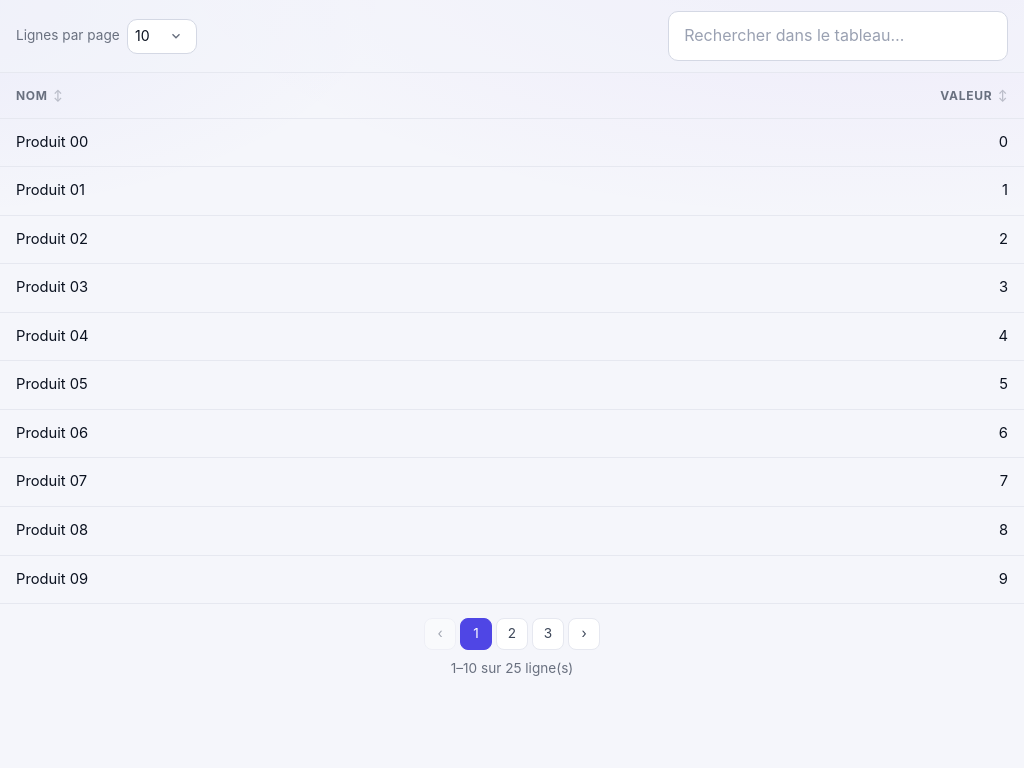
Test case: DataTable › trie par clic sur l'en-tête, dans les deux sens
This screenshot has width=1024, height=768.
Click the button "Valeur ↕" at (974, 96), box [940, 86, 1008, 106]
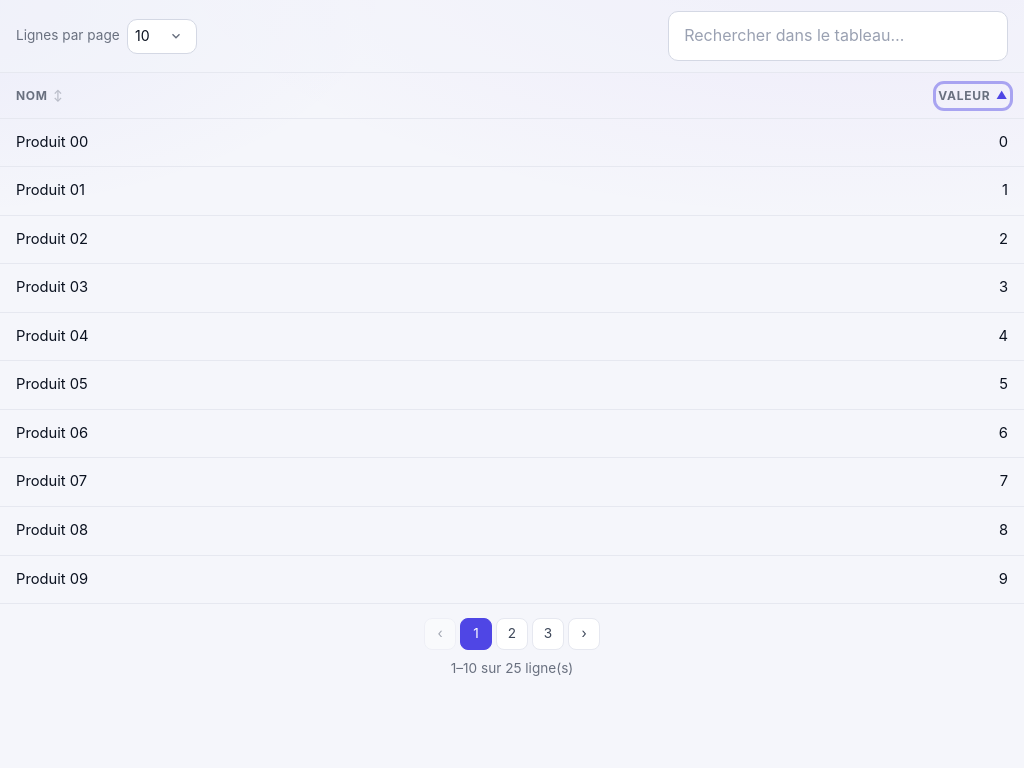
expect the row "Produit 00 0" is shown: met, box [0, 118, 1023, 167]
Click the button "Valeur ▲" at (973, 96), box [938, 86, 1008, 106]
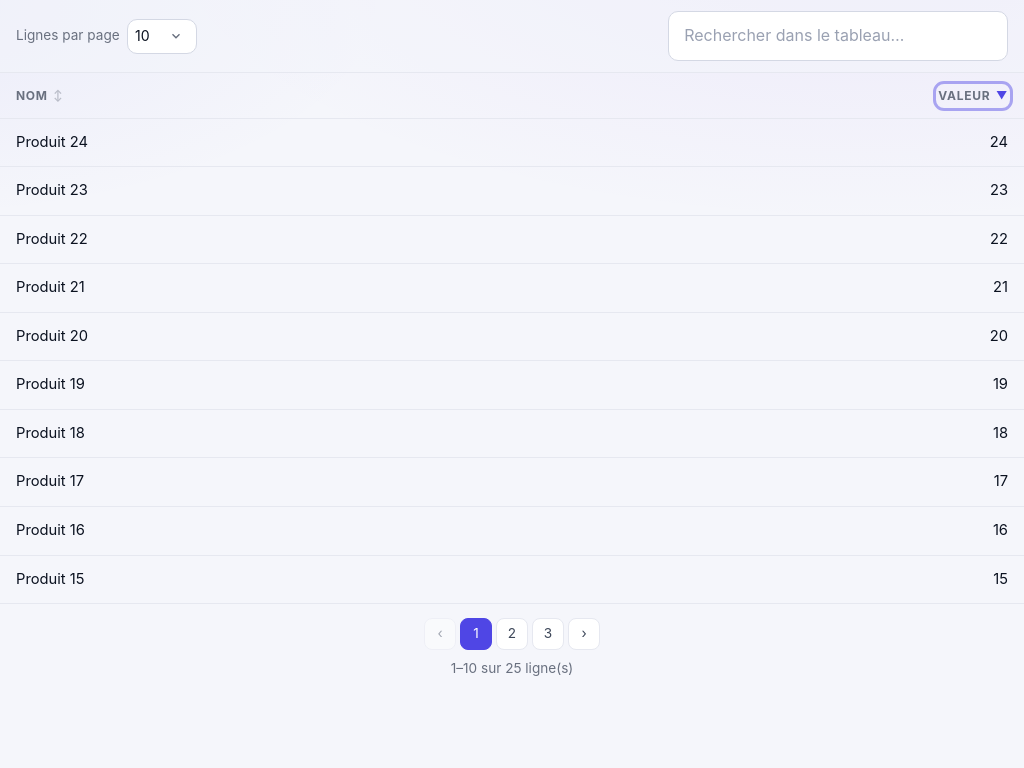
expect the row "Produit 24 24" is shown: met, box [0, 118, 1023, 167]
